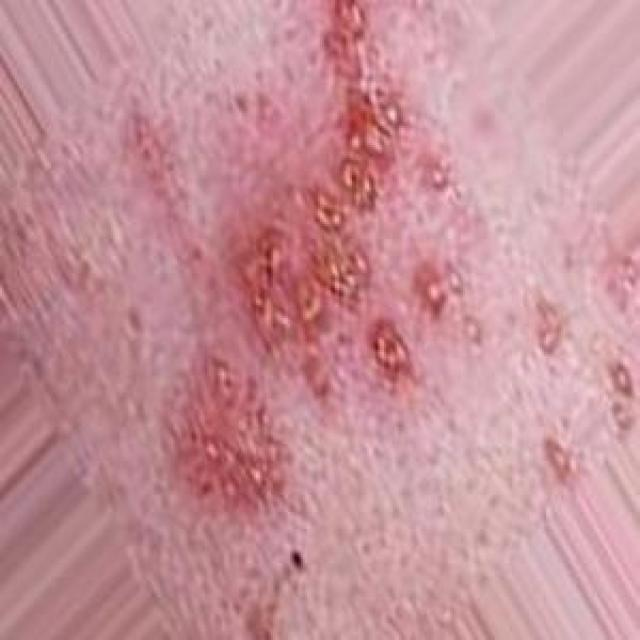Shingles: (173, 1, 457, 506)
